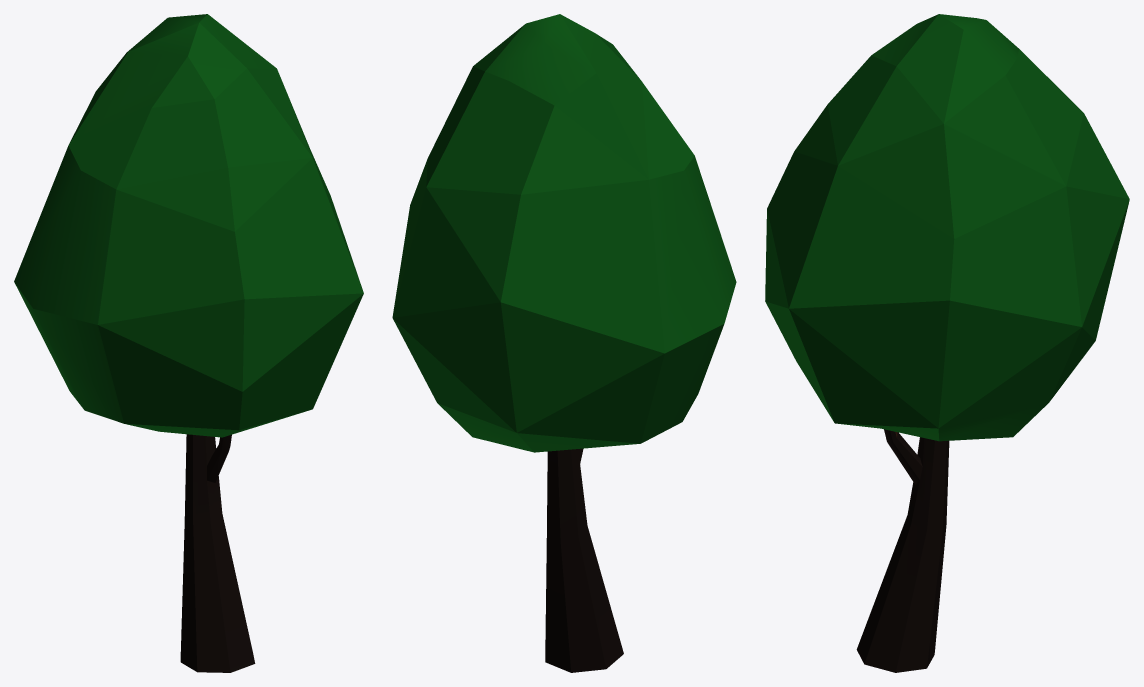
The model's file is arbusto_2.FBX.
3 views of the same model, side by side, from view 1: azimuth 30°, elevation 25°; view 2: azimuth 150°, elevation 25°; view 3: azimuth 270°, elevation 25° (orthographic). The views are drawn at different scales.
Visible parts, largest first — view 1: pCylinder5; view 2: pCylinder5; view 3: pCylinder5.
Part boxes in pixels (bbox=[...]): pCylinder5: bbox=[14, 14, 363, 672]; pCylinder5: bbox=[392, 14, 736, 672]; pCylinder5: bbox=[765, 14, 1129, 672].
Size of the model in its own units: 0.9345 by 1.87 by 0.9591.
